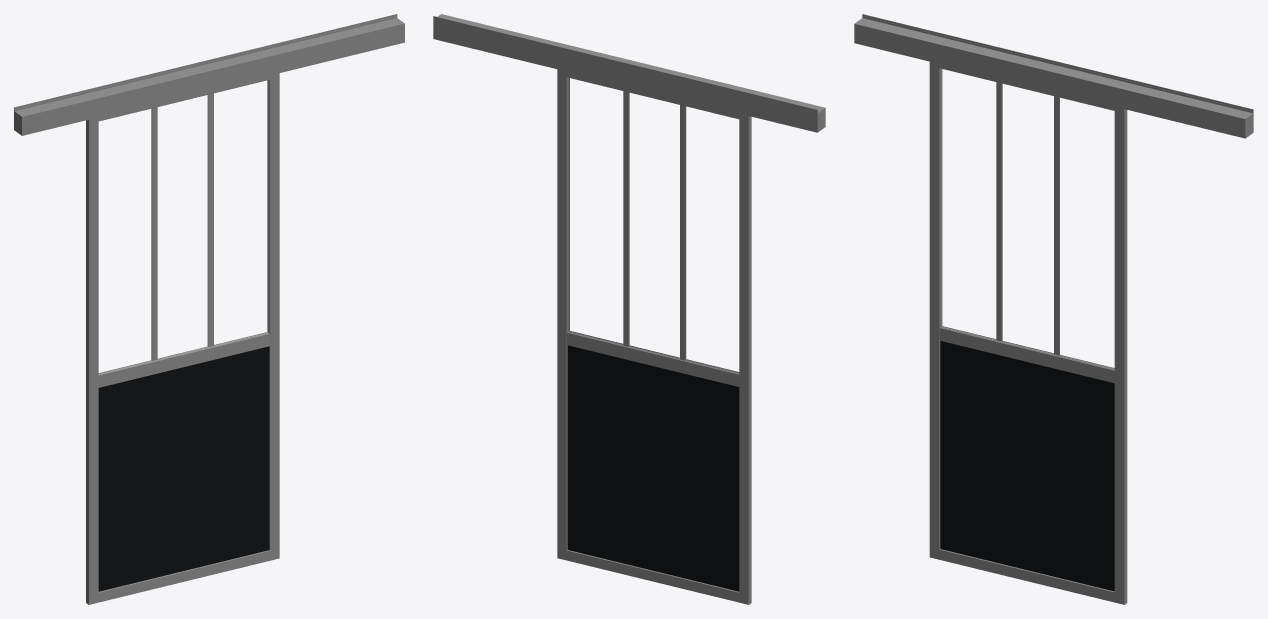
The picture shows the model from 3 angles, left to right: view 1: azimuth 30°, elevation 25°; view 2: azimuth 150°, elevation 25°; view 3: azimuth 330°, elevation 25°; orthographic projection. The views are drawn at different scales.
Parts seen in each view (by area): view 1: painel, Rectangle004, Line001, Rectangle005, Rectangle007, Rectangle008, Rectangle006; view 2: painel, Rectangle004, Line001, Rectangle005, Rectangle007, Rectangle008, Rectangle006; view 3: painel, Rectangle004, Line001, Rectangle005, Rectangle008, Rectangle007, Rectangle006.
Part boxes in pixels (bbox=[...]): painel: bbox=[98, 346, 269, 591]; Rectangle004: bbox=[86, 73, 279, 604]; Line001: bbox=[14, 14, 404, 135]; Rectangle005: bbox=[98, 333, 269, 387]; Rectangle007: bbox=[207, 93, 213, 346]; Rectangle008: bbox=[151, 107, 157, 360]; Rectangle006: bbox=[98, 79, 269, 374]; painel: bbox=[567, 345, 739, 591]; Rectangle004: bbox=[557, 69, 751, 604]; Line001: bbox=[433, 14, 825, 132]; Rectangle005: bbox=[567, 332, 739, 386]; Rectangle007: bbox=[623, 91, 629, 346]; Rectangle008: bbox=[680, 105, 686, 360]; Rectangle006: bbox=[567, 77, 739, 373]; painel: bbox=[940, 341, 1114, 591]; Rectangle004: bbox=[929, 61, 1127, 604]; Line001: bbox=[854, 14, 1253, 138]; Rectangle005: bbox=[939, 327, 1114, 383]; Rectangle008: bbox=[996, 82, 1002, 341]; Rectangle007: bbox=[1054, 96, 1059, 355]; Rectangle006: bbox=[940, 68, 1114, 369].
Bounding box in the file's own units: 1663 × 2123 × 60.3.
Materials: 4 (1 with a texture image).
